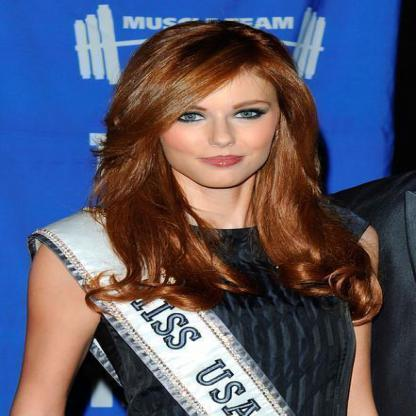long-hair: (85, 190, 352, 238)
